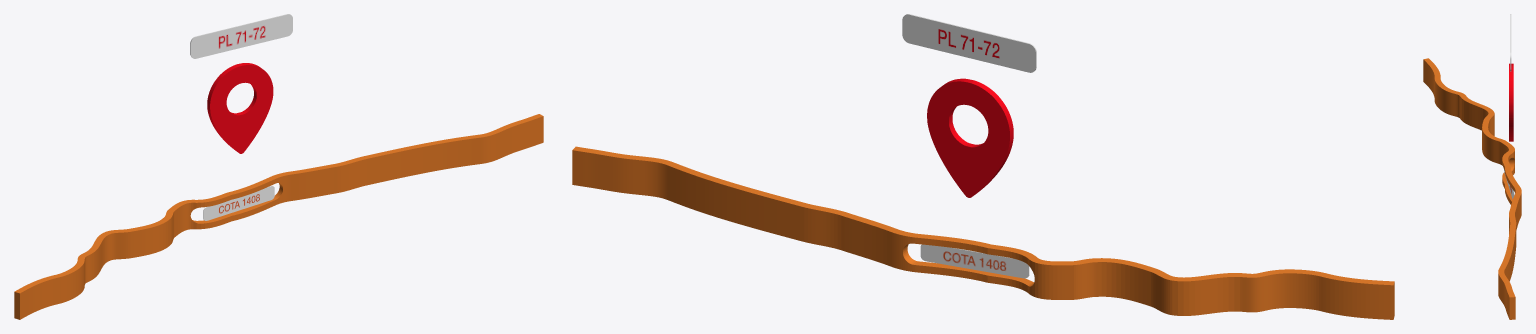
Rendered from animacionar3.glb.
3 views of the same model, side by side, from view 1: azimuth 30°, elevation 25°; view 2: azimuth 150°, elevation 25°; view 3: azimuth 270°, elevation 25° (orthographic). The views are drawn at different scales.
Visible parts, largest first — view 1: Cota De Inundacion.002, Cubo.001; view 2: Cota De Inundacion.002, Cubo.001; view 3: Cota De Inundacion.002, Cubo.001.
Part boxes in pixels (x1,y1,x2,y2): Cota De Inundacion.002: (14, 114, 543, 319); Cubo.001: (190, 14, 292, 153); Cota De Inundacion.002: (572, 146, 1394, 319); Cubo.001: (902, 14, 1036, 197); Cota De Inundacion.002: (1423, 58, 1521, 319); Cubo.001: (1509, 14, 1513, 141).
Bounding box in the file's own units: 202 × 63.71 × 35.16.
6 materials, 2 textured.
